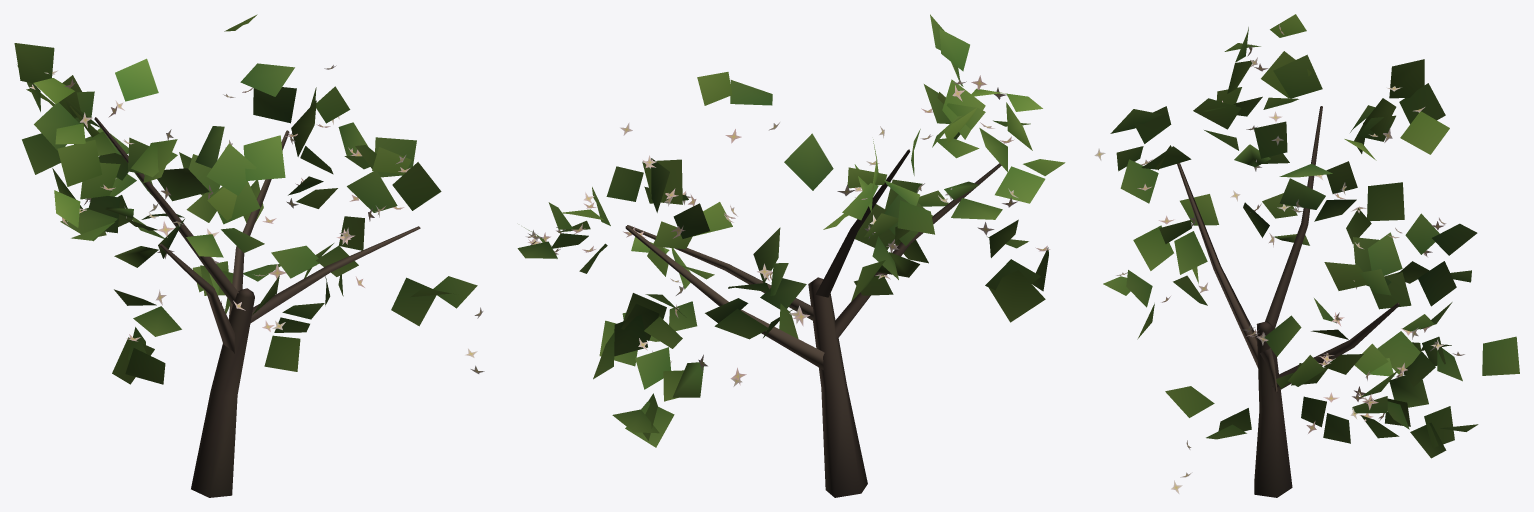
The model's file is apple-c.lod2.glb.
3 views of the same model, side by side, from view 1: azimuth 30°, elevation 25°; view 2: azimuth 150°, elevation 25°; view 3: azimuth 270°, elevation 25° (orthographic). The views are drawn at different scales.
Bounding box in the file's own units: 4.85 × 4.76 × 4.34.
